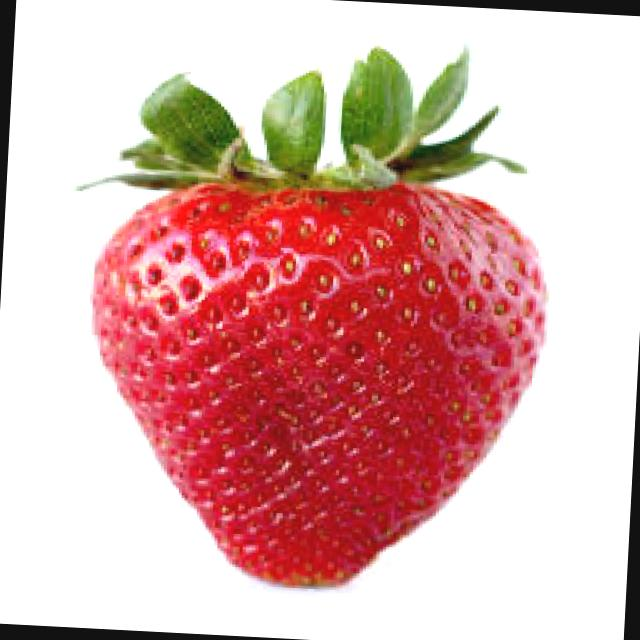strawberry: (12, 85, 578, 617)
